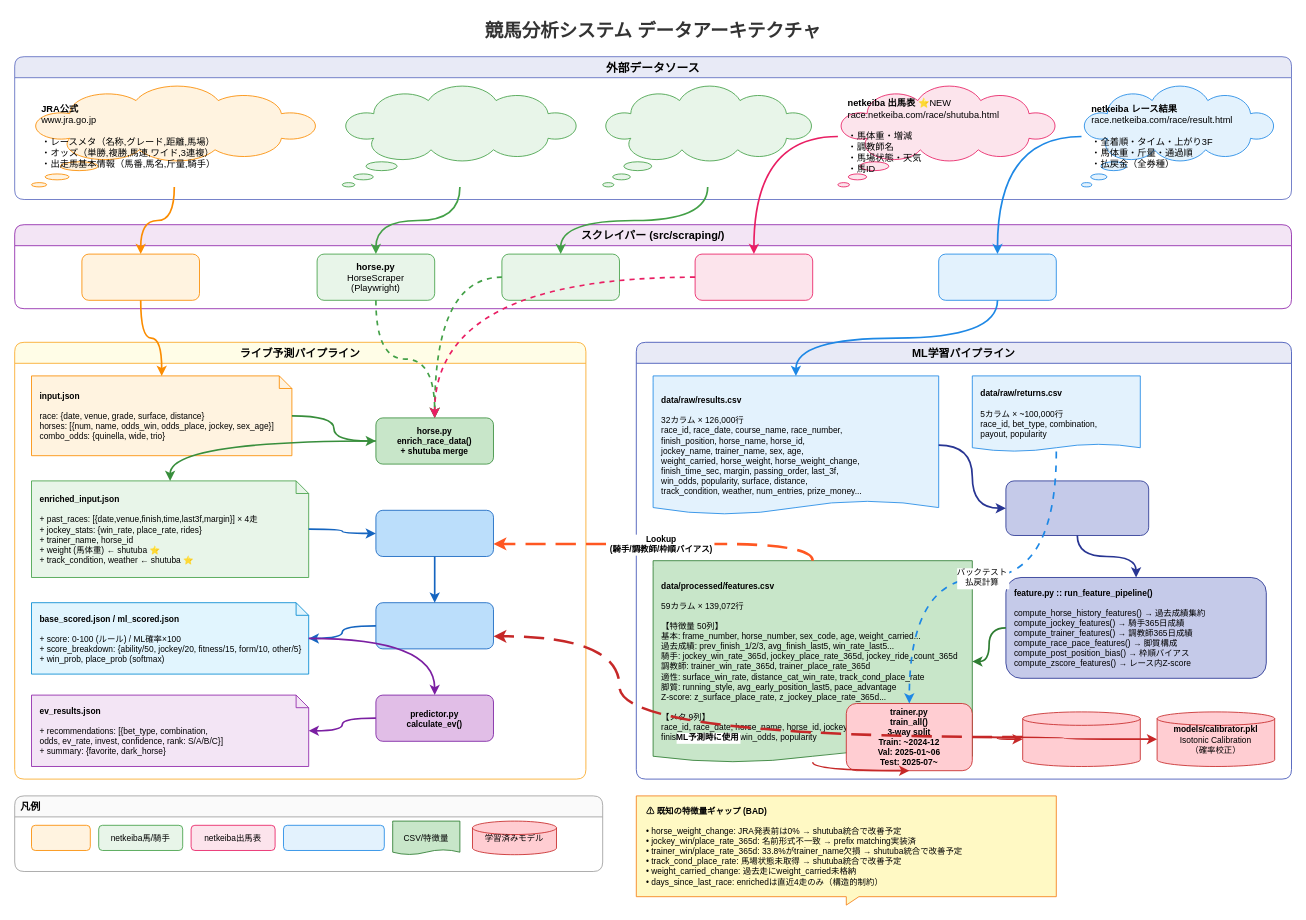
The diagram is 1306 pixels wide and 920 high, and some of its shapes have lost their labels. The shapes that lost their labels are listed below. From the top down, each one's centre as x and y in pixels, then its label:
At [459,136]: "netkeiba 馬ページ db.netkeiba.com/horse/ ・過去走成績（直近4走） ・騎手ID ・調教師名 ・馬ID".
At [707,136]: "netkeiba 騎手ページ db.netkeiba.com/jockey/ ・年間成績（勝率,連対率） ・騎乗回数".
At [140,276]: "odds.py OddsScraper (Playwright)".
At [560,276]: "horse.py get_jockey_stats (Playwright)".
At [753,276]: "race.py fetch_shutuba (HTTP)".
At [997,276]: "race.py collect_races (HTTP)".
At [1077,508]: "preprocessing.py load_results() 日付パース、カテゴリ変換 通過順パース、タイム変換".
At [434,532]: "feature.py extract_features _from_enriched()".
At [434,625]: "predictor.py score_rule_based() / score_ml()".
At [1081,738]: "models/lgbm_model.pkl LightGBM二値分類 （3着以内予測）".
At [60,837]: "JRA".
At [333,837]: "netkeibaレース結果".
